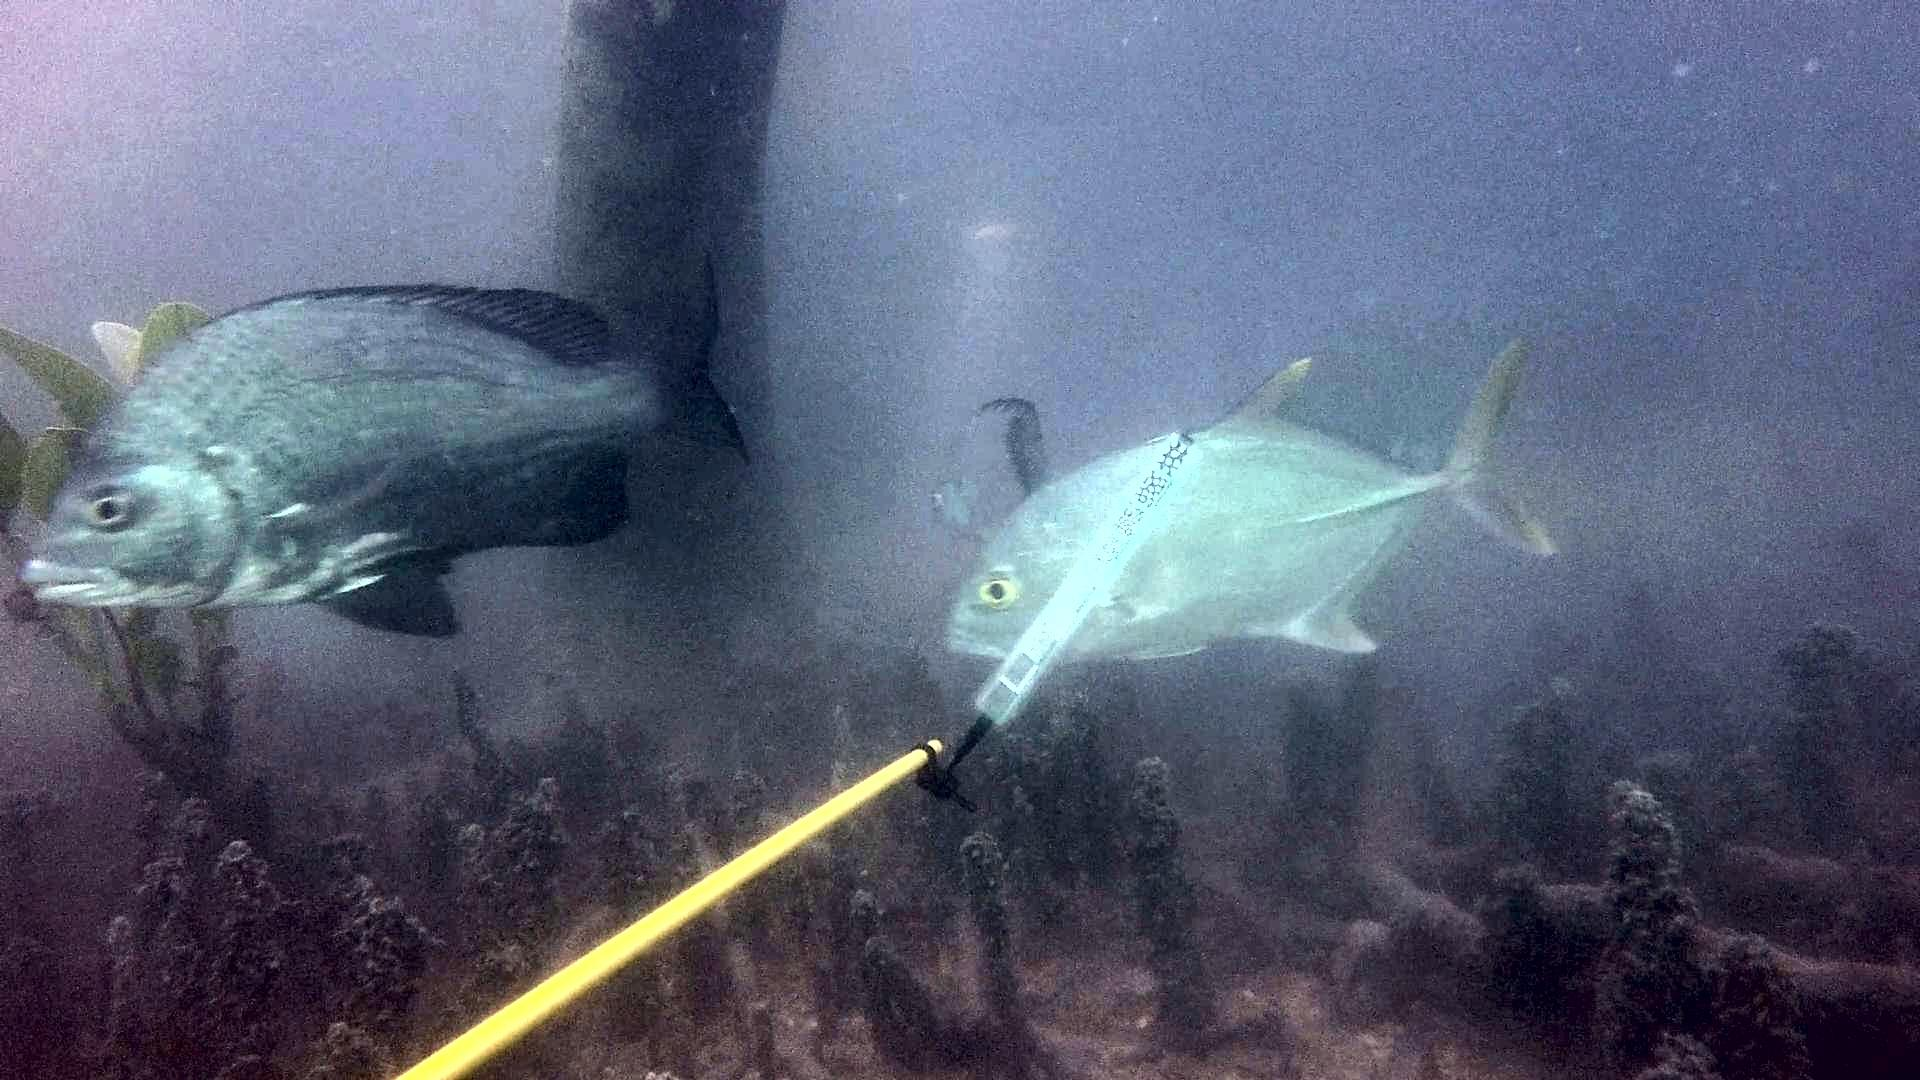acanthopagrus palmaris: (15, 242, 776, 651)
caranx: (926, 318, 1572, 682)
